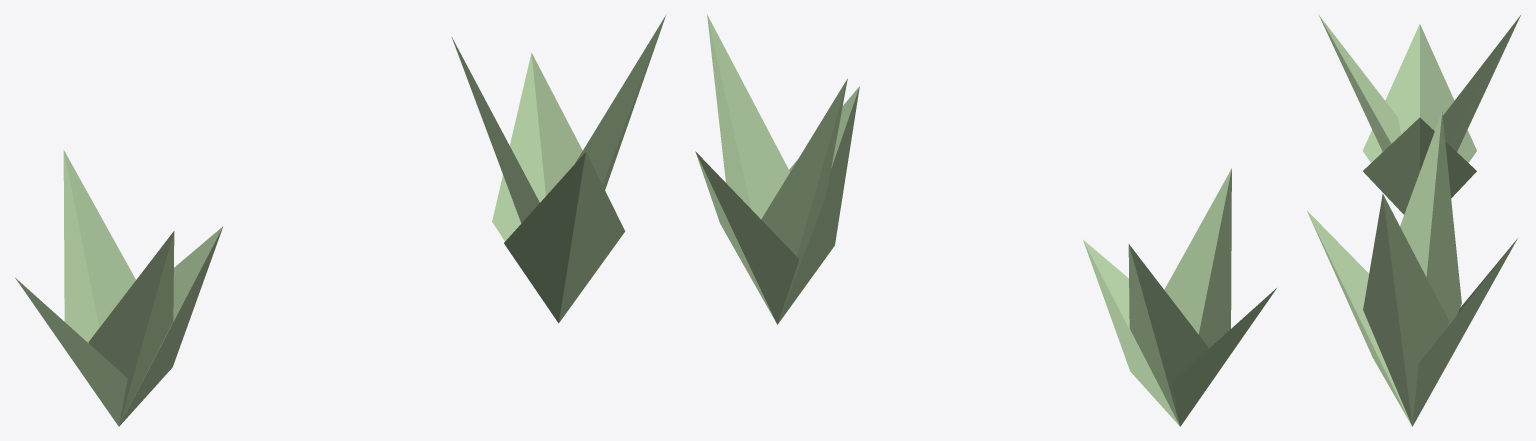
Rendered from crafted-orchard-clearing.glb.
The picture shows the model from 3 angles, left to right: view 1: azimuth 30°, elevation 25°; view 2: azimuth 150°, elevation 25°; view 3: azimuth 270°, elevation 25°; orthographic projection. The views are drawn at different scales.
Visible parts, largest first — view 1: vegetation-1, vegetation-0; view 2: vegetation-1, vegetation-0; view 3: vegetation-1, vegetation-0.
Part boxes in pixels (box(x1,y1,x2,y2)): vegetation-1: box(451, 14, 666, 323); vegetation-0: box(15, 150, 223, 426); vegetation-1: box(695, 14, 859, 324); vegetation-0: box(1083, 168, 1276, 426); vegetation-1: box(1307, 111, 1517, 426); vegetation-0: box(1318, 14, 1520, 214).
Bounding box in the file's own units: 1.81 × 0.82 × 0.5819.
